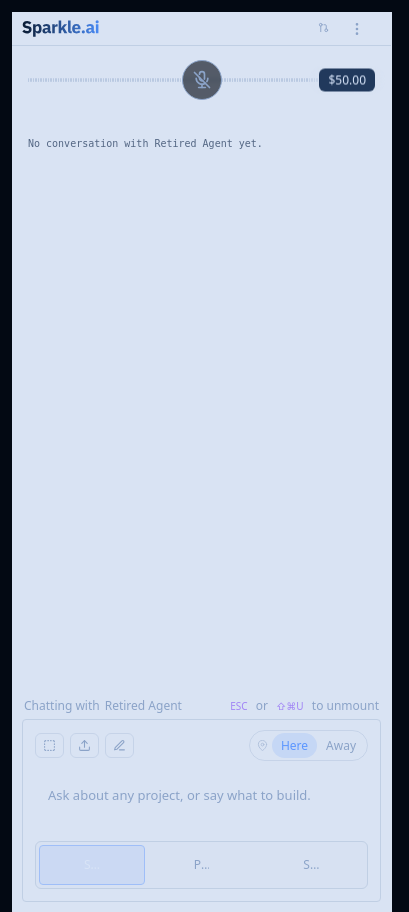
ConciergeHost — a mounted column can still say what happened › refuses a mount whose agent has left the FEED, with agentCanAcceptPrompt left saying yes
In the text box named "Message": (202, 804) [35, 775, 368, 833], type "pick the branch back up"
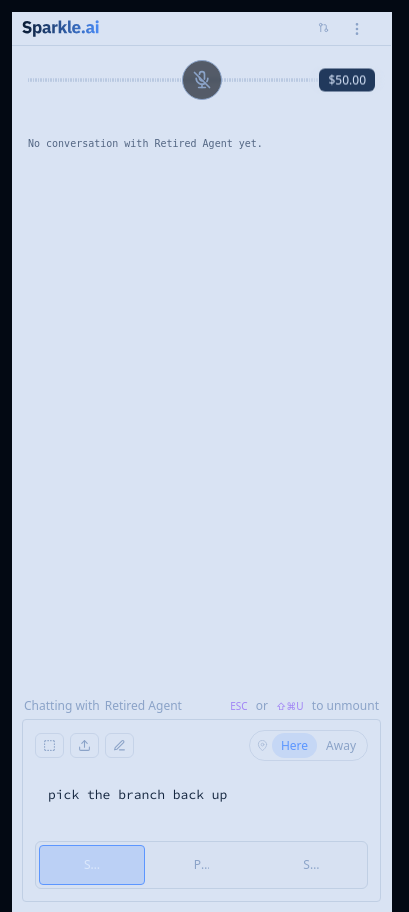
Click the button "Send": (92, 865) [39, 845, 145, 885]
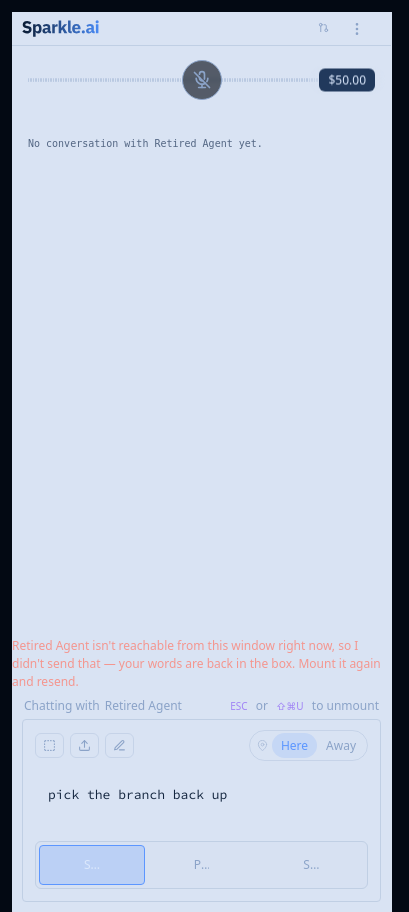
Expected: the message with test id "mounted-notice" shows "Retired Agent", [12, 637, 381, 690]
Expected: the message with test id "mounted-notice" shows "isn't reachable from this window right now, so I didn't send that — your words are back in the box. Mount it again and resend.", [12, 637, 381, 690]
